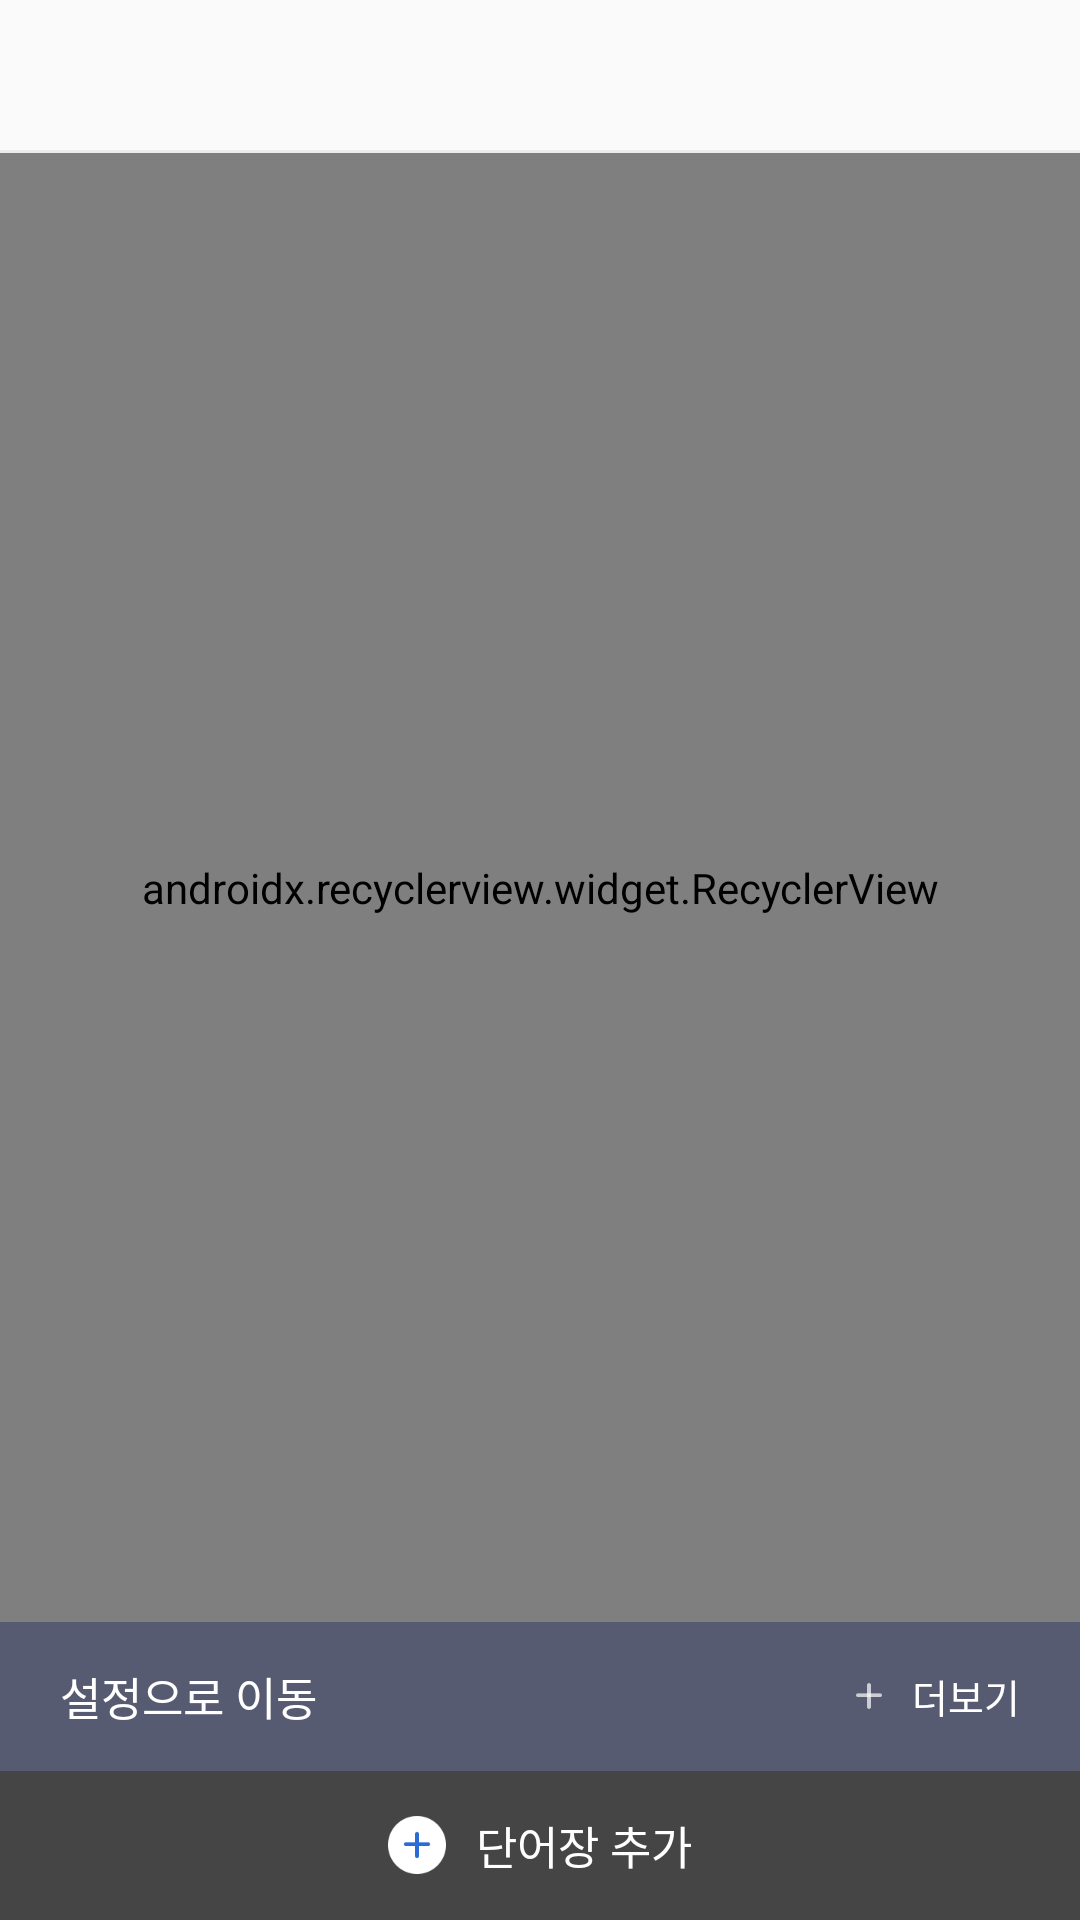

Icon bounding boxes for this 1080px×1920px phone screenshot, format (x1, y1, x2, y2):
mroe: (856, 1683, 882, 1709)
word plus: (388, 1816, 446, 1874)
